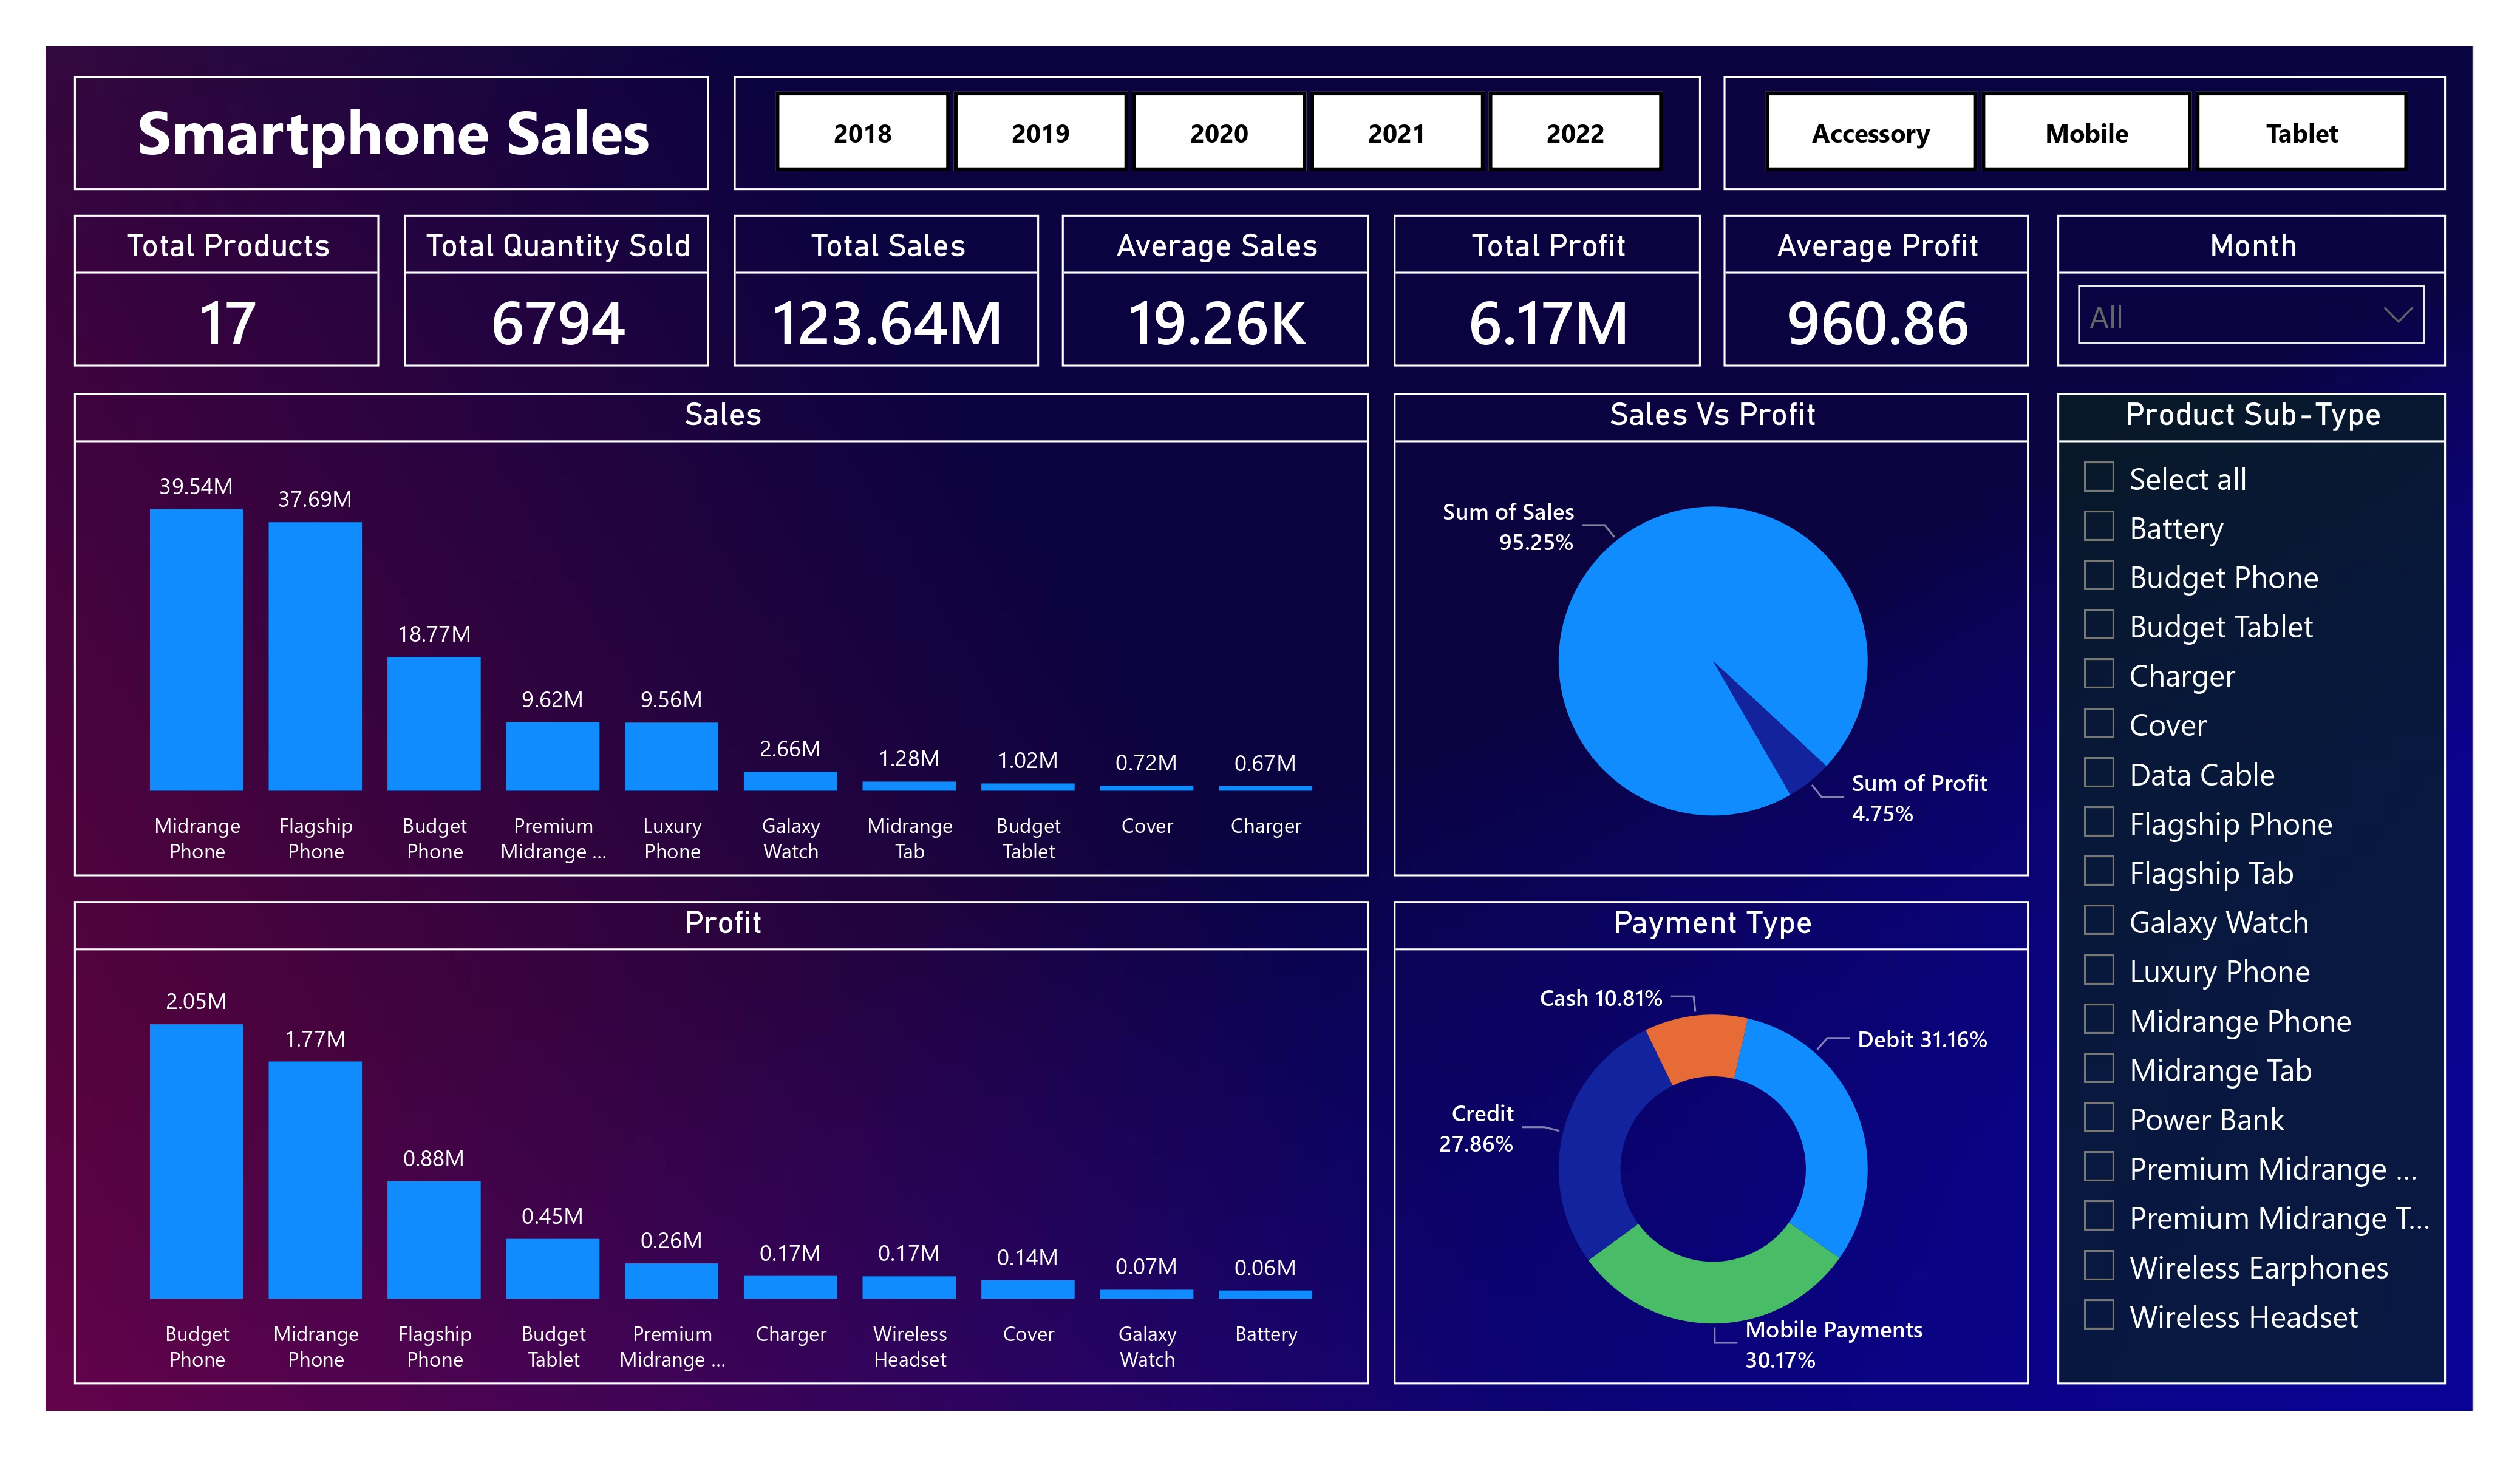

The dashboard page shown, as its layout file describes it:
{"tool":"powerbi","page":{"name":"Sales Dashboard","canvas":[1280,720],"ordinal":0},"visuals":[{"type":"textbox","box":[15,16.2,335,60],"z":0},{"type":"slicer","fields":{"Values":["Data.Product Type"]},"box":[885,16.2,381.2,60],"z":1000},{"type":"slicer","fields":{"Values":["Data.Date.Variation.Date Hierarchy.Year"]},"box":[362.5,16.2,510,60],"z":2000},{"type":"card","title":"Total Quantity Sold","fields":{"Values":["Sum(Data.Quantity)"]},"box":[188.8,88.8,161.2,80],"z":3000},{"type":"card","title":"Average Profit","fields":{"Values":["Avg(Data.Profit)"]},"box":[885,88.8,161.2,80],"z":4000},{"type":"card","title":"Total Sales","fields":{"Values":["Sum(Data.Sales Price)"]},"box":[362.5,88.8,161.2,80],"z":5000},{"type":"card","title":"Average Sales","fields":{"Values":["Avg(Data.Sales Price)"]},"box":[536.2,88.8,161.2,80],"z":6000},{"type":"card","title":"Total Profit","fields":{"Values":["Sum(Data.Profit)"]},"box":[711.2,88.8,161.2,80],"z":7000},{"type":"slicer","title":"Month","fields":{"Values":["Data.Date.Variation.Date Hierarchy.Month"]},"box":[1061.2,88.8,205,80],"z":8000},{"type":"slicer","title":"Product Sub-Type","fields":{"Values":["Data.Product Sub-Type"]},"box":[1061.2,182.5,205,523.8],"z":9000},{"type":"pieChart","title":"Sales Vs Profit","fields":{"Y":["Sum(Data.Sales Price)","Sum(Data.Profit)"]},"box":[711.2,182.5,335,255],"z":10000},{"type":"donutChart","title":"Payment Type","fields":{"Category":["Data.PaymentType"],"Y":["Sum(Data.Sales Price)"]},"box":[711.2,451.2,335,255],"z":11000},{"type":"card","title":"Total Products","fields":{"Values":["Count(Data.Product Sub-Type)"]},"box":[15,88.8,161,80],"z":12000},{"type":"clusteredColumnChart","title":"Sales","fields":{"Category":["Data.Product Sub-Type"],"Y":["Sum(Data.Sales)"]},"box":[15,182.5,682.5,255],"z":13000},{"type":"clusteredColumnChart","title":"Profit","fields":{"Category":["Data.Product Sub-Type"],"Y":["Sum(Data.Profit)"]},"box":[15,451.2,682.5,255],"z":14000}]}

Visuals, with their boxes in screenshot pixels (x1, y1, x2, y2):
textbox: 74, 76, 710, 190
slicer - Data.Product Type: 1725, 76, 2448, 190
slicer - Data.Date.Variation.Date Hierarchy.Year: 734, 76, 1701, 190
"Total Quantity Sold" card: 404, 214, 710, 365
"Average Profit" card: 1725, 214, 2031, 365
"Total Sales" card: 734, 214, 1040, 365
"Average Sales" card: 1063, 214, 1369, 365
"Total Profit" card: 1395, 214, 1701, 365
"Month" slicer: 2059, 214, 2448, 365
"Product Sub-Type" slicer: 2059, 392, 2448, 1385
"Sales Vs Profit" pieChart: 1395, 392, 2031, 875
"Payment Type" donutChart: 1395, 902, 2031, 1385
"Total Products" card: 74, 214, 380, 365
"Sales" clusteredColumnChart: 74, 392, 1369, 875
"Profit" clusteredColumnChart: 74, 902, 1369, 1385
